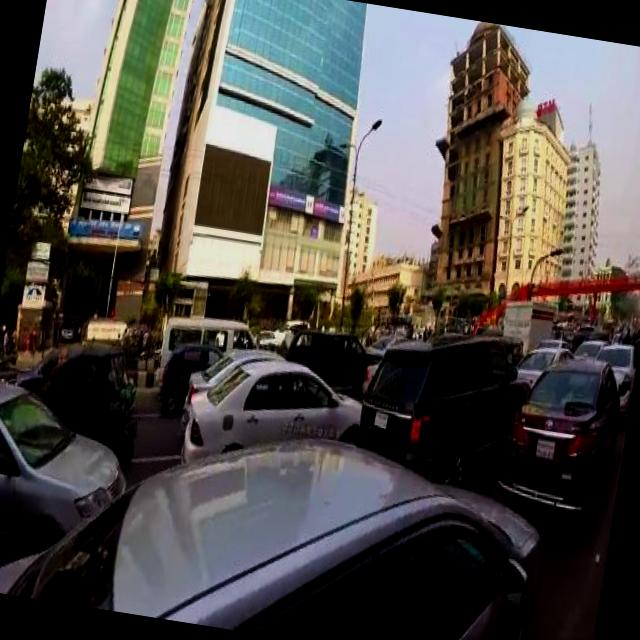car: (0, 381, 562, 640), (352, 317, 539, 487), (0, 375, 140, 589), (182, 346, 370, 484), (497, 345, 632, 515), (182, 336, 290, 438), (286, 321, 386, 386), (156, 335, 225, 419), (590, 338, 640, 407), (516, 340, 576, 388), (568, 325, 613, 359), (255, 324, 282, 346)
motorcycle: (29, 334, 151, 459)
truck: (155, 305, 266, 395), (502, 294, 564, 348)
